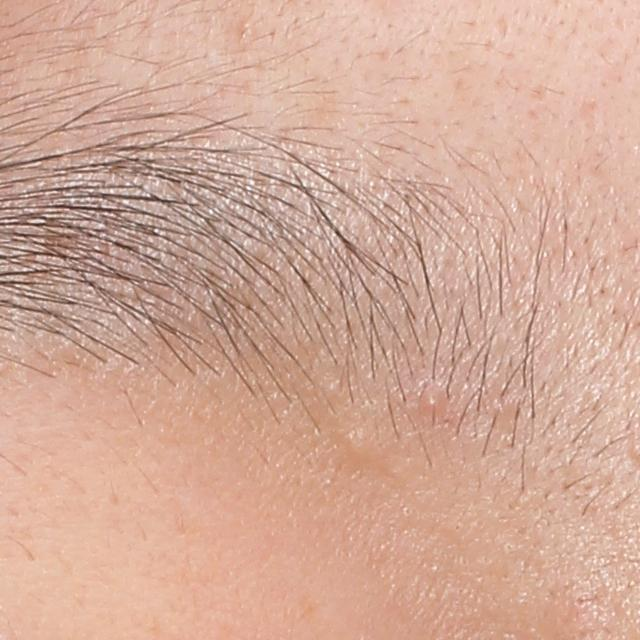atrophic_scar: (576, 98, 603, 138), (493, 11, 511, 44)
comedo: (335, 429, 381, 472), (419, 386, 448, 414)
